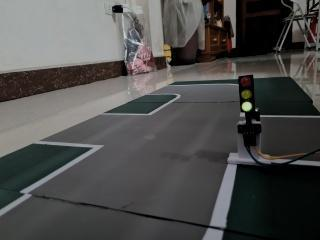green: (230, 68, 262, 124)
